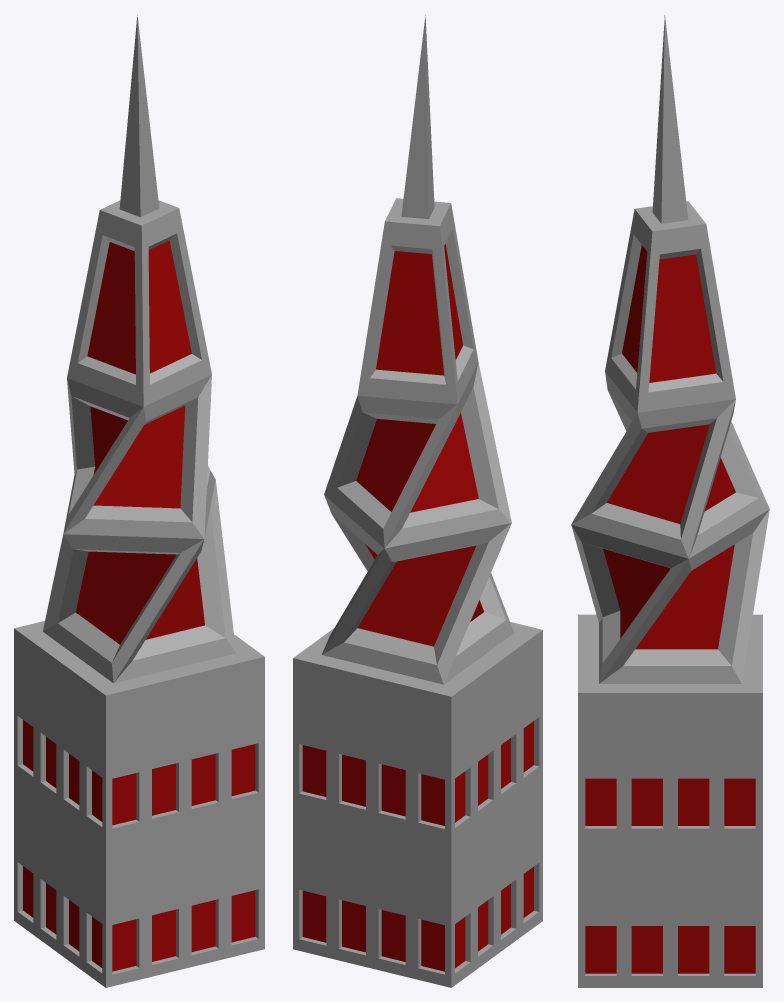
The model's file is building3Model.fbx.
3 views of the same model, side by side, from view 1: azimuth 30°, elevation 25°; view 2: azimuth 150°, elevation 25°; view 3: azimuth 270°, elevation 25° (orthographic).
Visible parts, largest first — view 1: pCube1; view 2: pCube1; view 3: pCube1.
Boxes of the visible parts, x1=… form: pCube1: x1=14, y1=15, x2=264, y2=987; pCube1: x1=293, y1=15, x2=542, y2=987; pCube1: x1=571, y1=15, x2=769, y2=987.
Bounding box in the file's own units: 16.19 × 83.81 × 16.19.
